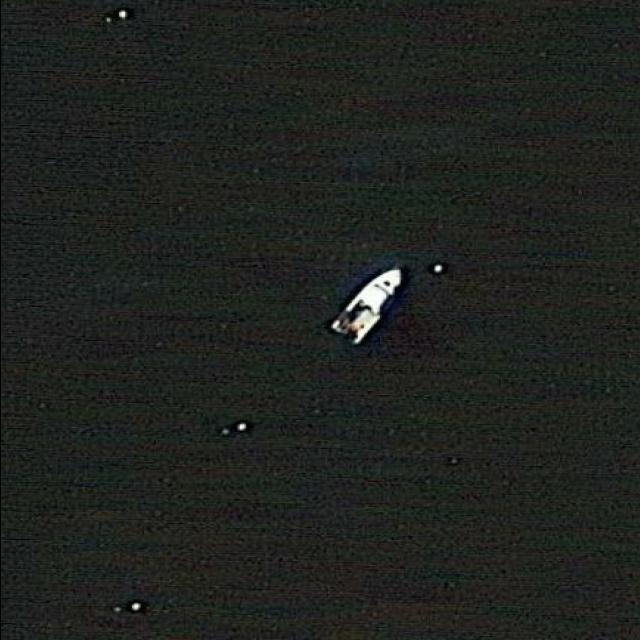ship: (332, 268, 407, 346)
